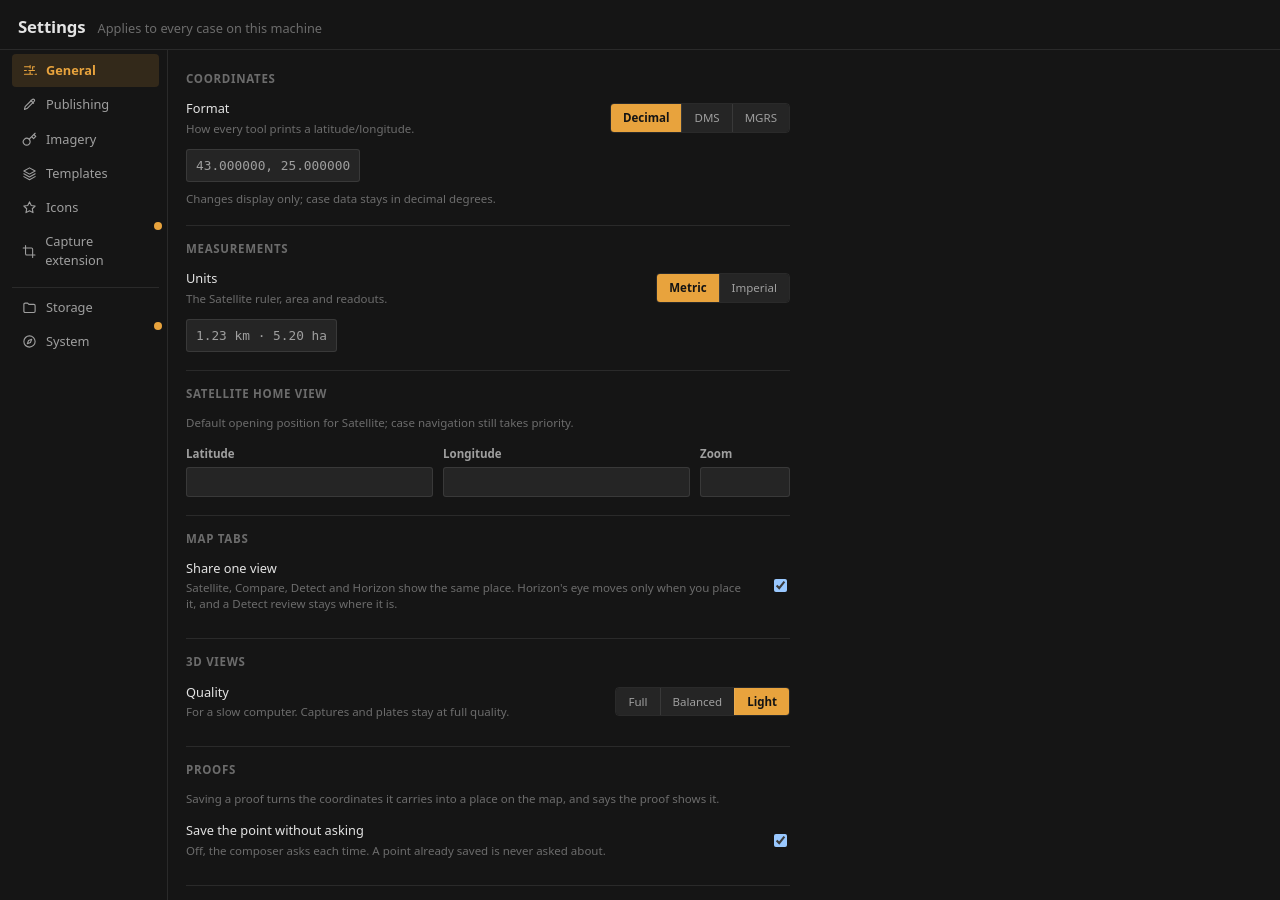
Test case: each section › Templates says when there is nothing stored yet
Click the button with class "rail-tab" showing "Templates" at (86, 173), box [12,157,159,190]
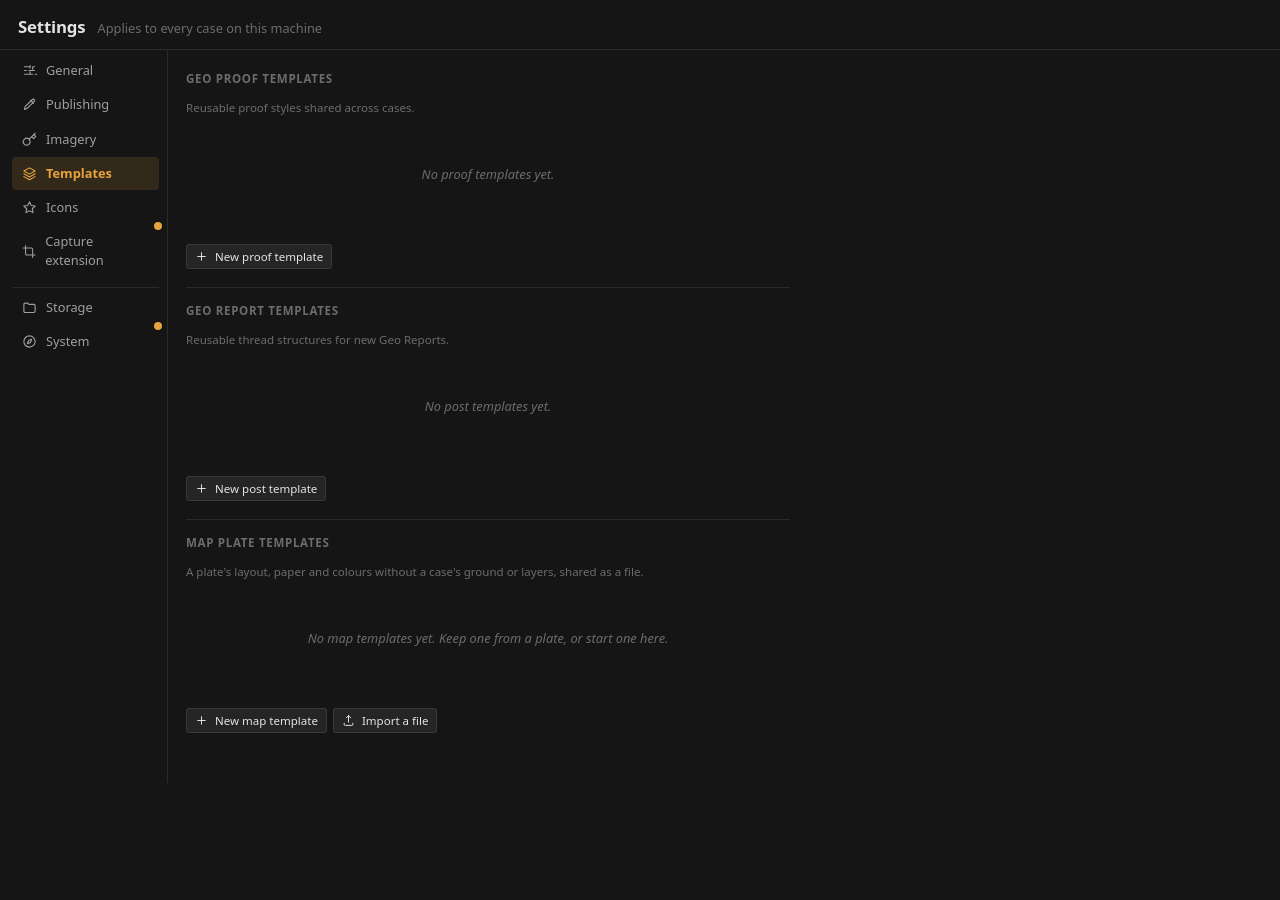
Check: the element that starts with "Geo Proof templates" shows "No proof templates yet.", box [422,165,554,183]
Check: the element that starts with "Geo Proof templates" shows "No post templates yet.", box [425,397,551,415]
